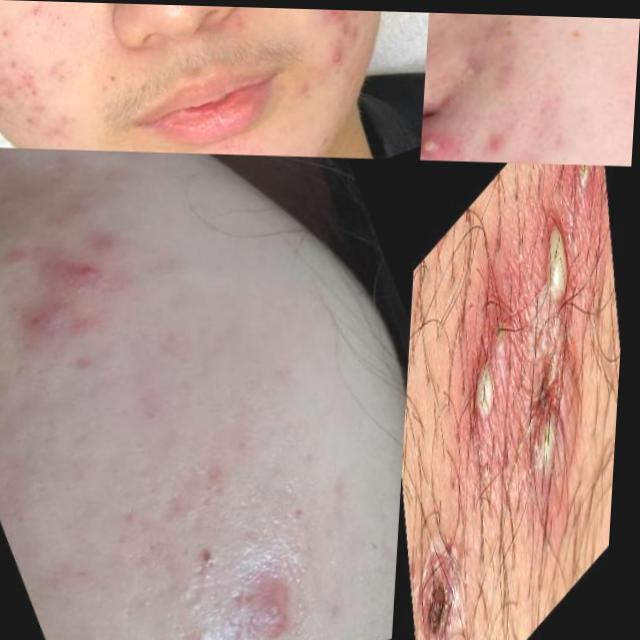8: (13, 277, 102, 355), (43, 237, 124, 312), (314, 30, 363, 75), (314, 7, 354, 27)
9: (422, 117, 467, 158)
blackheads: (215, 539, 340, 640), (444, 29, 508, 101), (463, 118, 537, 160)
dark spot: (30, 1, 86, 51), (37, 59, 82, 96)
whiteheads: (522, 347, 582, 530), (414, 505, 480, 640), (533, 190, 586, 332), (468, 335, 512, 450), (487, 297, 520, 378), (569, 161, 604, 220)
